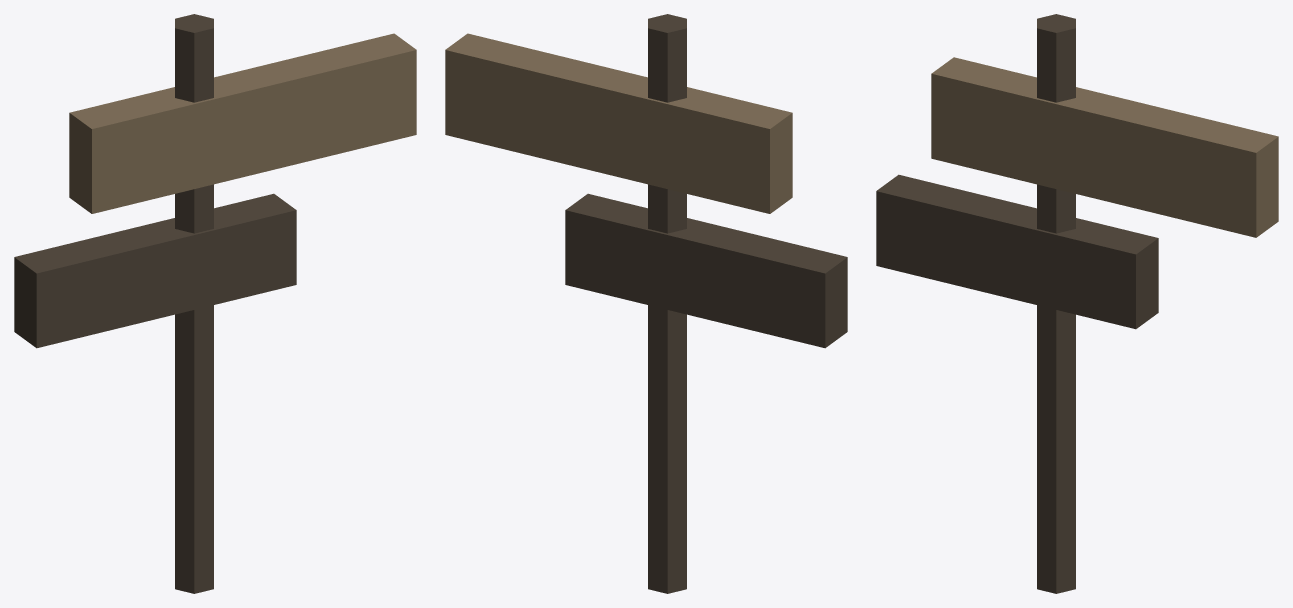
The model's file is PRP_08_Sign.glb.
3 views of the same model, side by side, from view 1: azimuth 30°, elevation 25°; view 2: azimuth 150°, elevation 25°; view 3: azimuth 330°, elevation 25° (orthographic).
Parts seen in each view (by area): view 1: PRP_08_Sign; view 2: PRP_08_Sign; view 3: PRP_08_Sign.
Boxes of the visible parts, x1,y1,x2,y2 form: PRP_08_Sign: (14, 14, 416, 593); PRP_08_Sign: (445, 14, 847, 593); PRP_08_Sign: (876, 14, 1278, 593).
Size of the model in its own units: 1.17 by 1.65 by 0.12.
